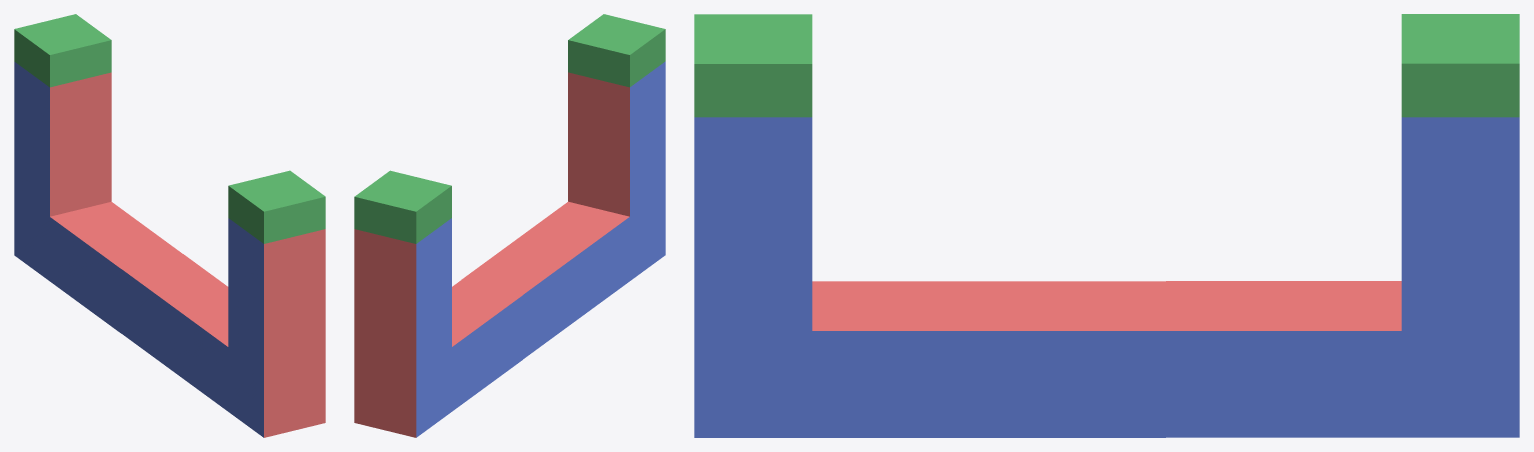
3 views of the same model, side by side, from view 1: azimuth 30°, elevation 25°; view 2: azimuth 150°, elevation 25°; view 3: azimuth 270°, elevation 25° (orthographic). The views are drawn at different scales.
Parts seen in each view (by area): view 1: xzo (×4), ozx (×4), Y (×2), xzx (×3), zzx (×2); view 2: xzo (×4), ozx (×4), Y (×2), xzx (×3), zzx (×2); view 3: ozx (×4), xzo (×2), xzx (×2), Y (×2), zzx (×2).
Part boxes in pixels (left/top/right/bottom): xzo (×4): left=14, top=62, right=325, bottom=373; ozx (×4): left=50, top=201, right=228, bottom=411; Y (×2): left=14, top=14, right=325, bottom=243; xzx (×3): left=14, top=191, right=325, bottom=437; zzx (×2): left=121, top=254, right=218, bottom=359; xzo (×4): left=354, top=61, right=665, bottom=373; ozx (×4): left=452, top=201, right=629, bottom=411; Y (×2): left=354, top=14, right=665, bottom=243; xzx (×3): left=354, top=191, right=665, bottom=437; zzx (×2): left=461, top=254, right=558, bottom=359; ozx (×4): left=812, top=281, right=1401, bottom=437; xzo (×2): left=694, top=117, right=1519, bottom=330; xzx (×2): left=694, top=331, right=1519, bottom=437; Y (×2): left=694, top=14, right=1519, bottom=117; zzx (×2): left=1048, top=281, right=1165, bottom=437.
Size of the model in its own units: 1 by 7 by 3.5.
